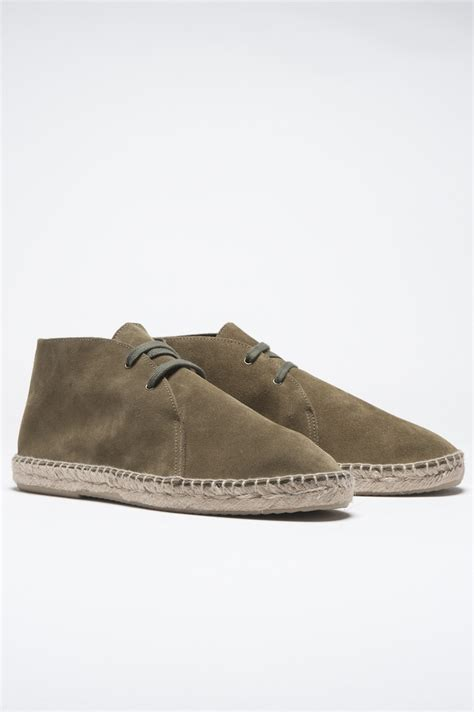gamuza: (17, 321, 461, 480)
